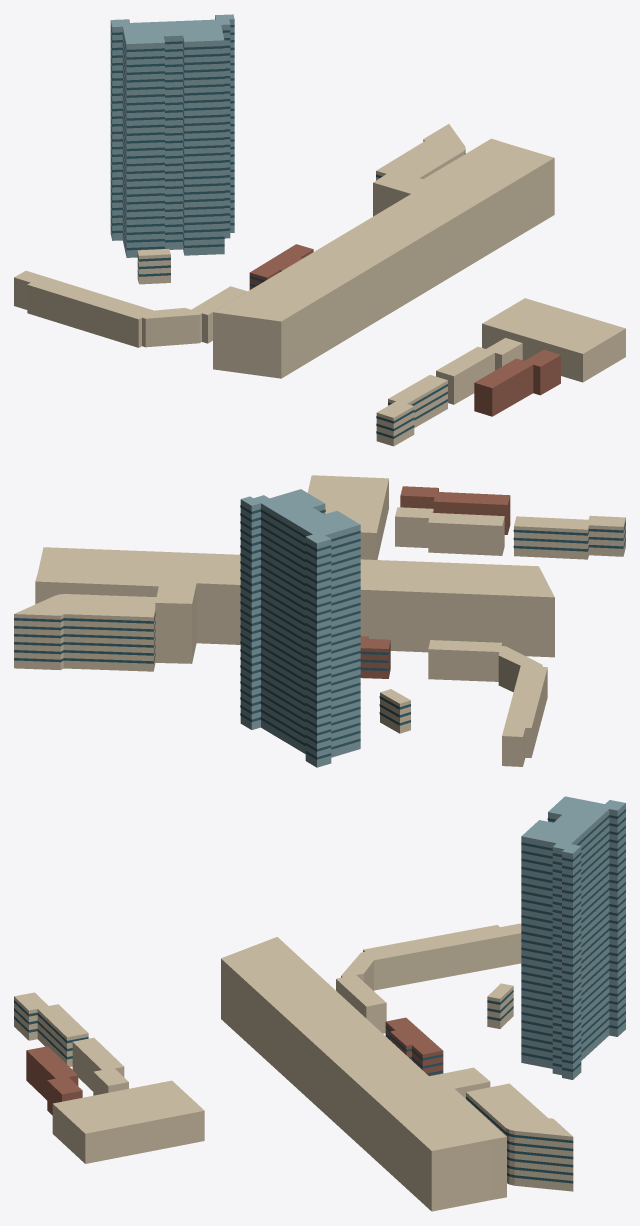
The model's file is city_7_-5.glb.
The picture shows the model from 3 angles, top to bottom: view 1: azimuth 30°, elevation 25°; view 2: azimuth 150°, elevation 25°; view 3: azimuth 270°, elevation 25°; orthographic projection. The views are drawn at different scales.
Visible parts, largest first — view 1: city_7_-5; view 2: city_7_-5; view 3: city_7_-5.
Boxes of the visible parts, <box> form: city_7_-5: <box>14,14,625,446</box>; city_7_-5: <box>14,475,625,767</box>; city_7_-5: <box>14,796,625,1211</box>.
Bounding box in the file's own units: 274 × 112 × 275.
